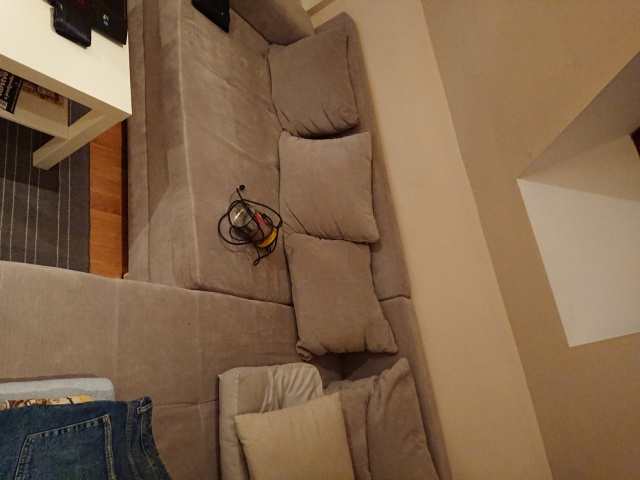Nescafe Classic 225g: (230, 205, 280, 251)
